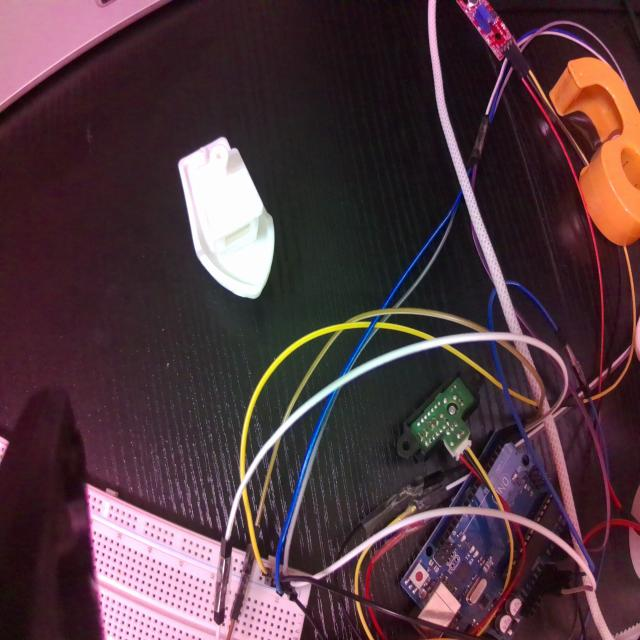ship: (178, 132, 275, 300)
